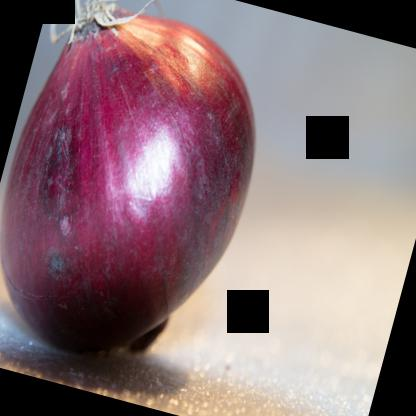onion: (0, 0, 290, 385)
